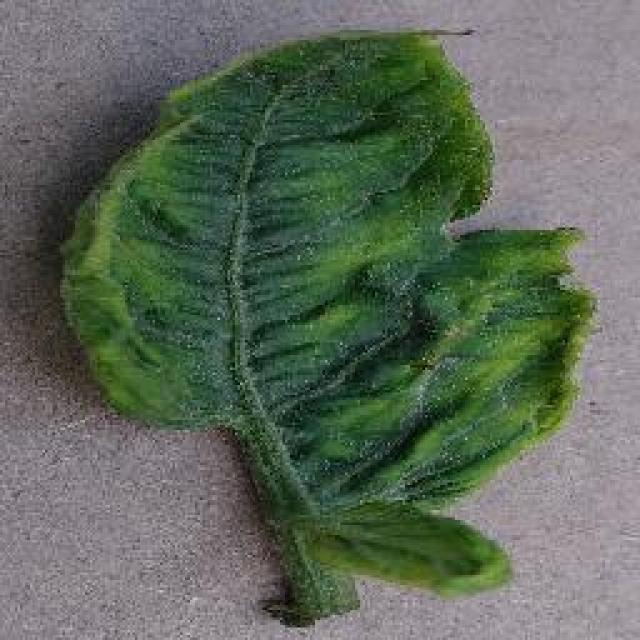Tomato yellow virus leaf: (59, 28, 599, 508), (294, 504, 516, 596)
